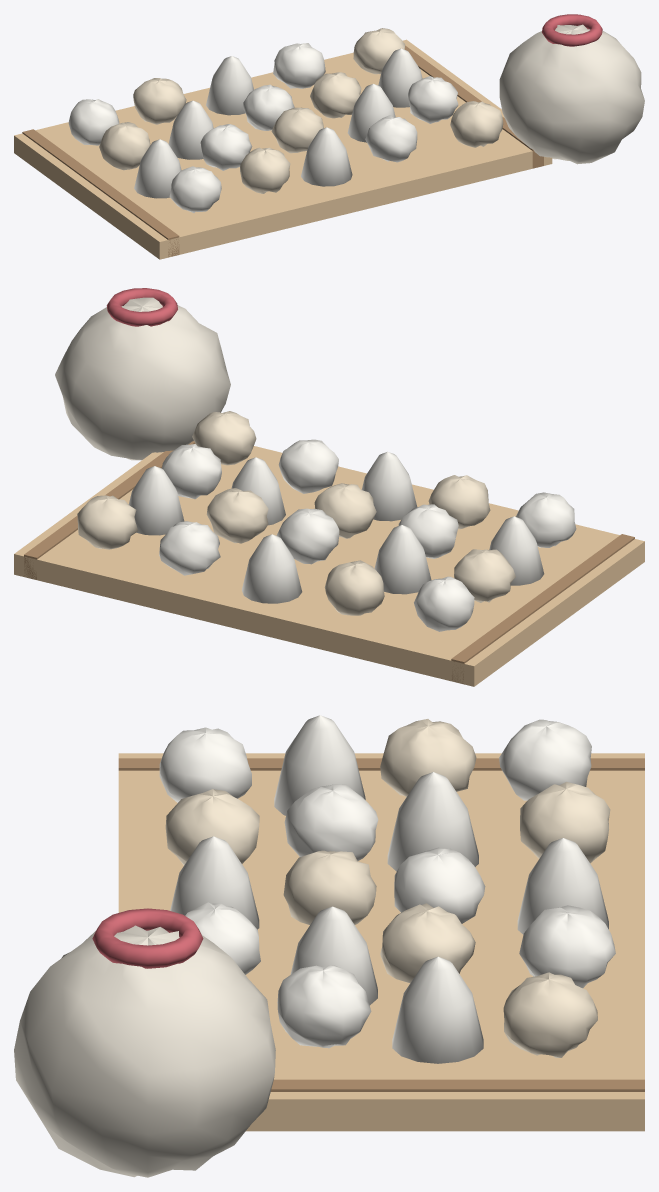
Rendered from qurt.glb.
The picture shows the model from 3 angles, top to bottom: view 1: azimuth 30°, elevation 25°; view 2: azimuth 150°, elevation 25°; view 3: azimuth 270°, elevation 25°; orthographic projection. The views are drawn at different scales.
Parts seen in each view (by area): view 1: board, qurt (×14), bag, qurt-cone (×6), board-edge (×2), bag-tie; view 2: board, qurt (×14), bag, qurt-cone (×6), board-edge (×2), bag-tie; view 3: board, qurt (×13), bag, qurt-cone (×6), board-edge (×2), bag-tie.
Boxes of the visible parts, box(x1,y1,x2,y2) form: board: box(14, 39, 552, 259); qurt (×14): box(68, 28, 503, 212); bag: box(499, 24, 644, 164); qurt-cone (×6): box(134, 48, 422, 198); board-edge (×2): box(22, 45, 543, 257); bag-tie: box(542, 14, 602, 46); board: box(14, 446, 644, 686); qurt (×14): box(77, 411, 576, 631); bag: box(55, 297, 230, 460); qurt-cone (×6): box(128, 451, 544, 603); board-edge (×2): box(24, 441, 634, 683); bag-tie: box(106, 288, 177, 326); board: box(118, 753, 644, 1131); qurt (×13): box(159, 719, 615, 1057); bag: box(14, 925, 275, 1177); qurt-cone (×6): box(170, 715, 608, 1063); board-edge (×2): box(118, 758, 644, 1091); bag-tie: box(92, 908, 203, 968).
Size of the model in its own units: 3.45 by 0.883 by 2.16.
